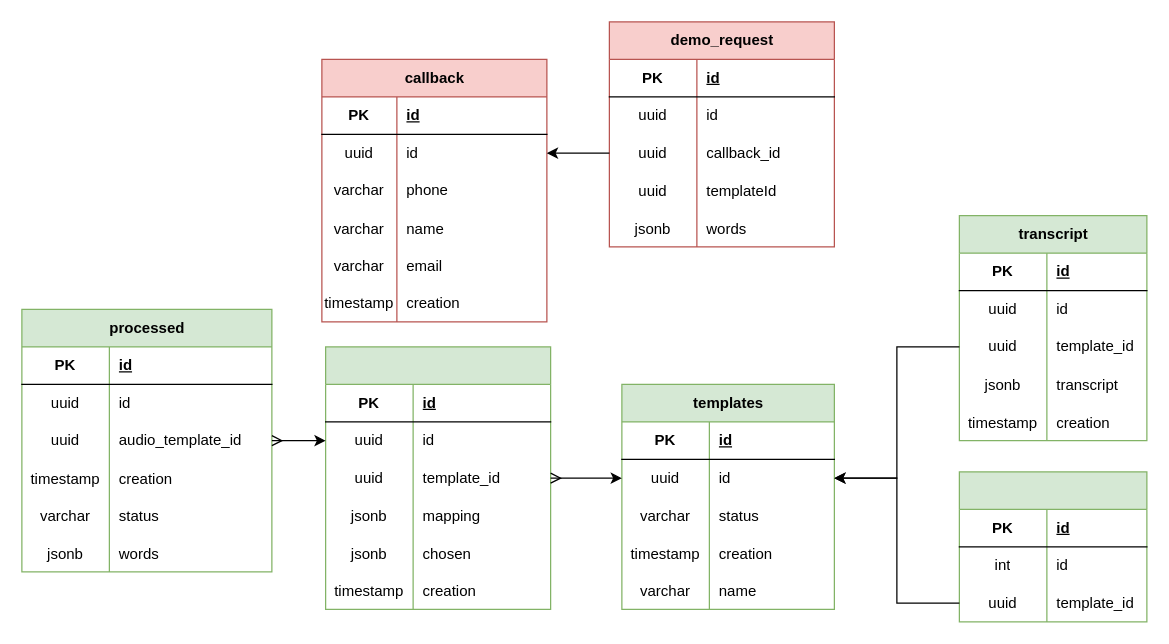
The diagram is 1169 pixels wide and 644 high, and some of its shapes have lost their labels. Each missing label, with the box of its shape:
audio_template: (324, 346, 551, 609)
demos: (958, 471, 1147, 622)
